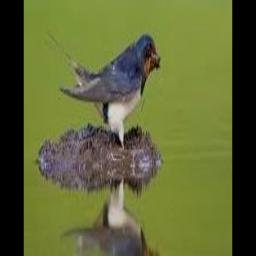Swallow: (45, 32, 160, 150)
